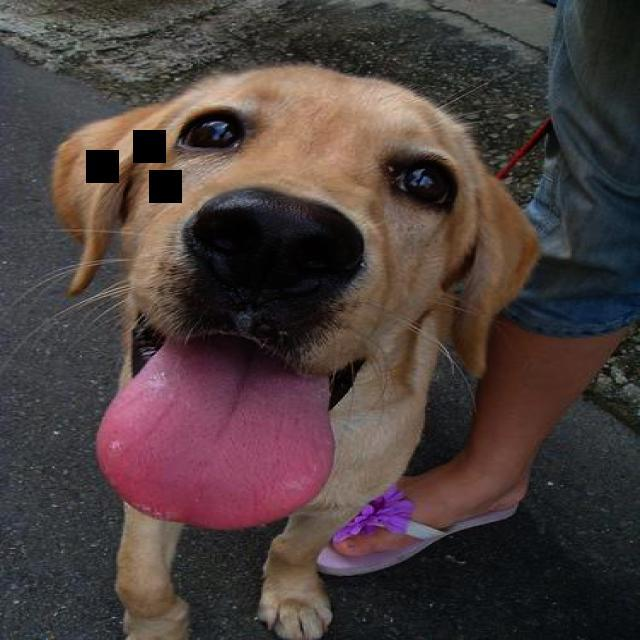adult_dog: (49, 67, 540, 633)
